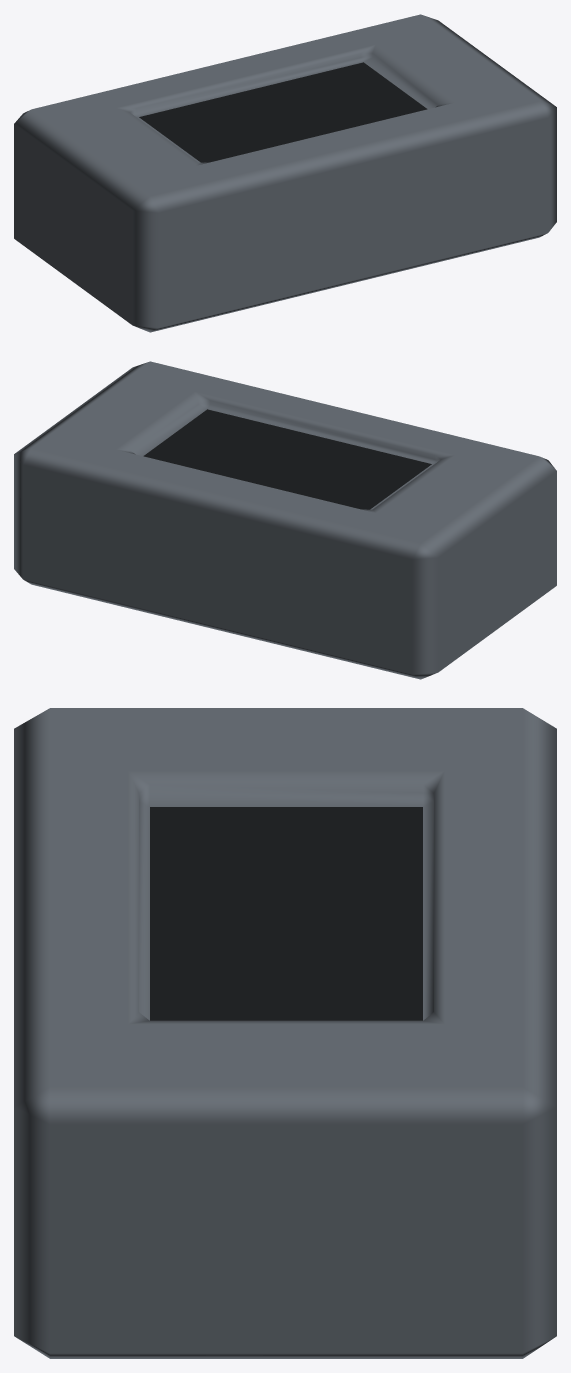
File: block.fbx
The picture shows the model from 3 angles, top to bottom: view 1: azimuth 30°, elevation 25°; view 2: azimuth 150°, elevation 25°; view 3: azimuth 270°, elevation 25°; orthographic projection. The views are drawn at different scales.
Visible parts, largest first — view 1: Cube.008; view 2: Cube.008; view 3: Cube.008.
Part boxes in pixels (left/top/right/bottom): Cube.008: left=14, top=14, right=556, bottom=332; Cube.008: left=14, top=361, right=556, bottom=679; Cube.008: left=14, top=708, right=556, bottom=1358.
Bounding box in the file's own units: 91.81 × 28.21 × 51.02.
